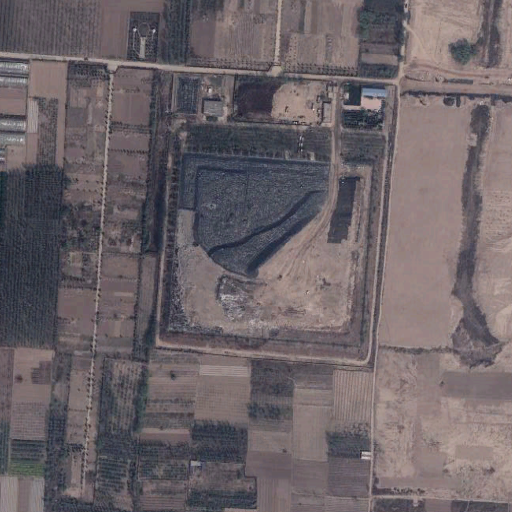lf: (166, 153, 375, 356)
